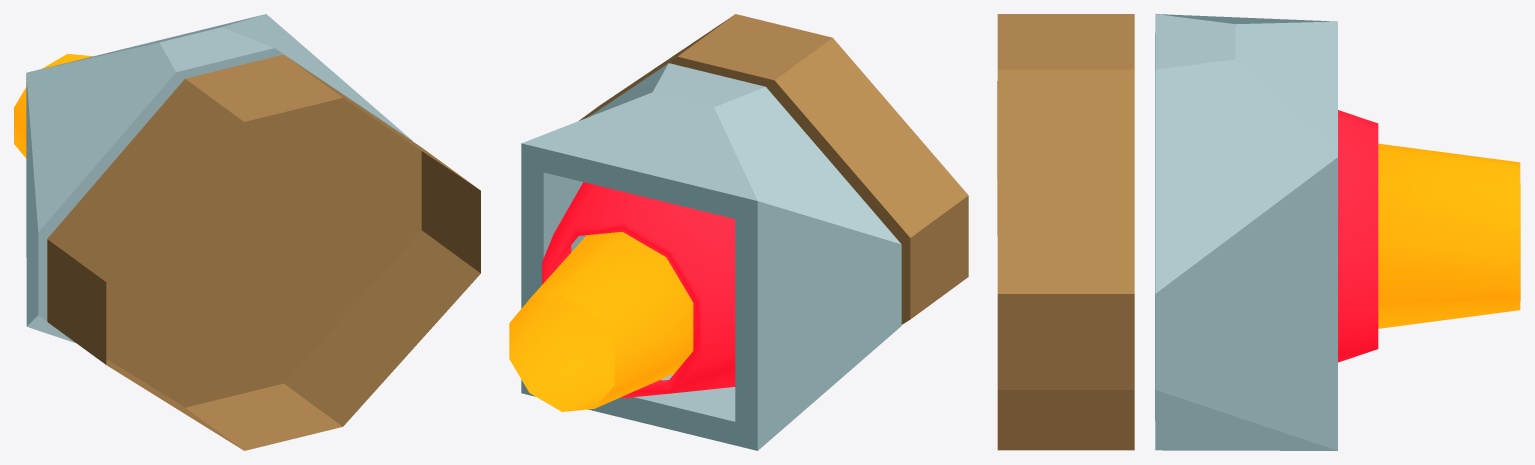
File: teleport.glb
3 renders of one model, left to right at view 1: azimuth 30°, elevation 25°; view 2: azimuth 150°, elevation 25°; view 3: azimuth 270°, elevation 25°, orthographic. The views are drawn at different scales.
Parts seen in each view (by area): view 1: Plane.003, boost-part.000; view 2: Plane.003, boost-part.000; view 3: Plane.003, boost-part.000.
Part boxes in pixels (x1,y1,x2,y2): Plane.003: (26, 14, 480, 450); boost-part.000: (14, 53, 92, 157); Plane.003: (521, 14, 968, 450); boost-part.000: (509, 231, 693, 411); Plane.003: (997, 14, 1378, 450); boost-part.000: (1378, 143, 1520, 328).
Bounding box in the file's own units: 0.1713 × 0.1437 × 0.1789.
